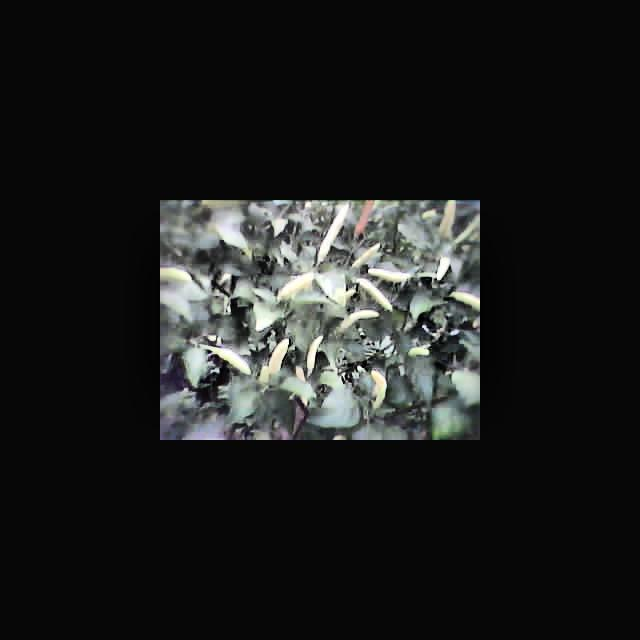Cabai: (353, 200, 379, 240)
